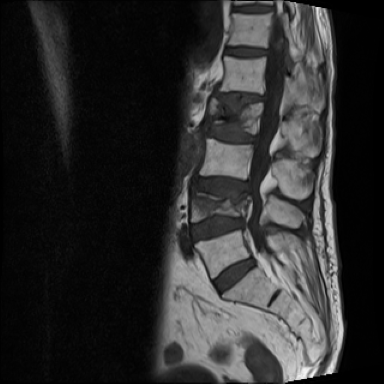Degenerative Disc Disease (DDD): (186, 212, 249, 251), (194, 172, 255, 205), (202, 123, 261, 150), (207, 88, 269, 109), (216, 44, 272, 63)
Normal IVD: (205, 254, 260, 301)
Spinal Stenosis (SS): (239, 176, 257, 205), (255, 90, 273, 112), (236, 213, 253, 236)
Thoracic Disc Bulge (TDB): (224, 3, 275, 19)
